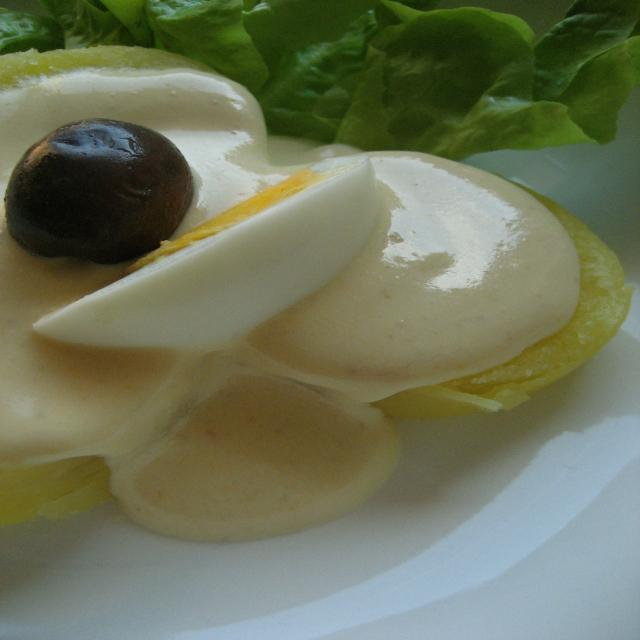huevos: (189, 150, 391, 348)
